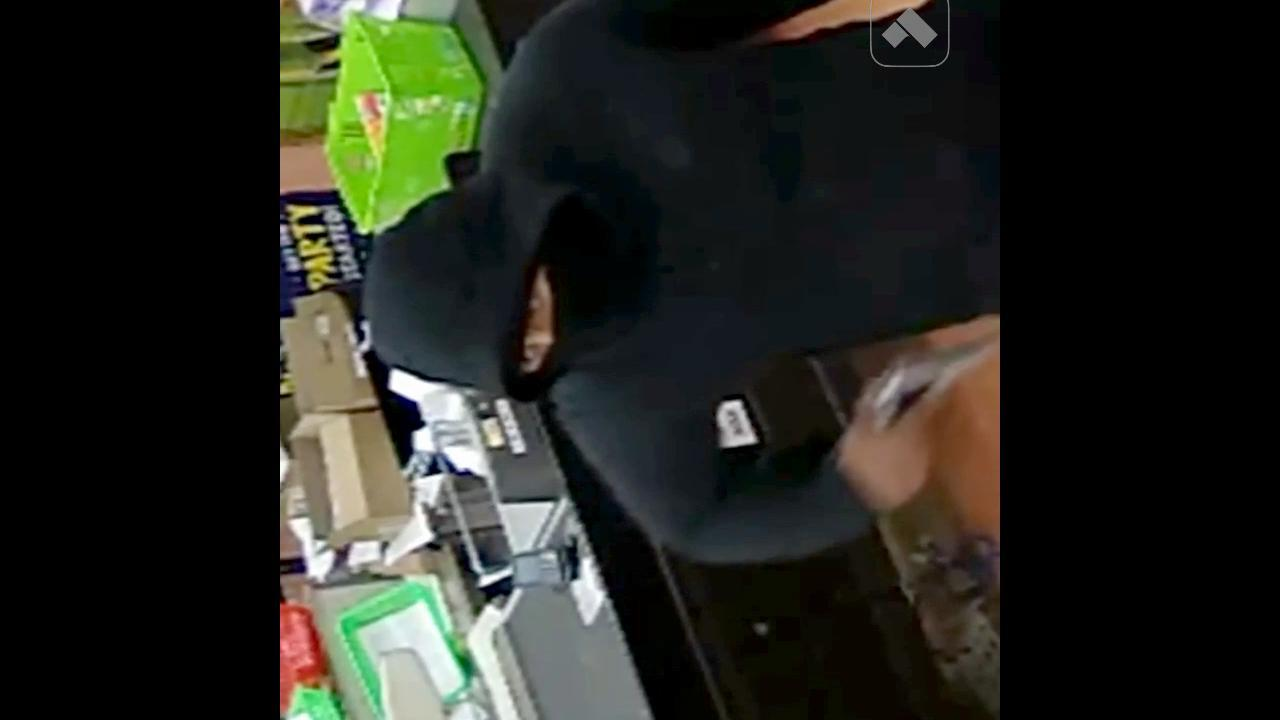gun: (848, 300, 998, 434)
